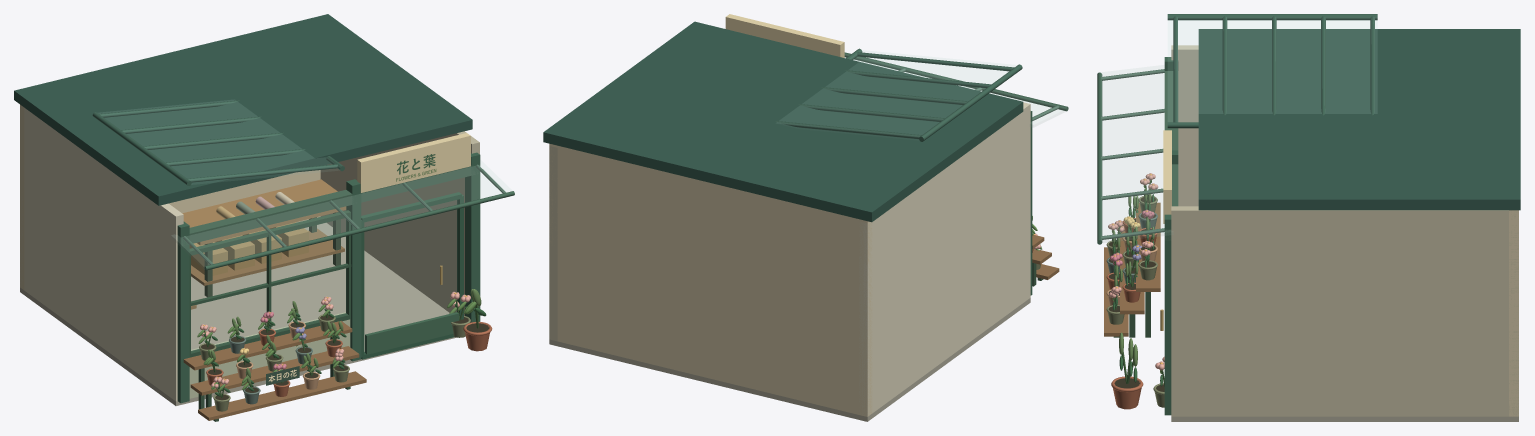
Rendered from florist.glb.
3 views of the same model, side by side, from view 1: azimuth 30°, elevation 25°; view 2: azimuth 150°, elevation 25°; view 3: azimuth 270°, elevation 25° (orthographic). The views are drawn at different scales.
Parts seen in each view (by area): view 1: 花与叶花店; view 2: 花与叶花店; view 3: 花与叶花店.
Boxes of the visible parts, box(x1,y1,x2,y2) form: 花与叶花店: box(14, 14, 514, 421); 花与叶花店: box(543, 14, 1068, 421); 花与叶花店: box(1097, 14, 1520, 421).
Size of the model in its own units: 5.58 by 3.79 by 5.85.
Materials: 65 (3 with a texture image).
